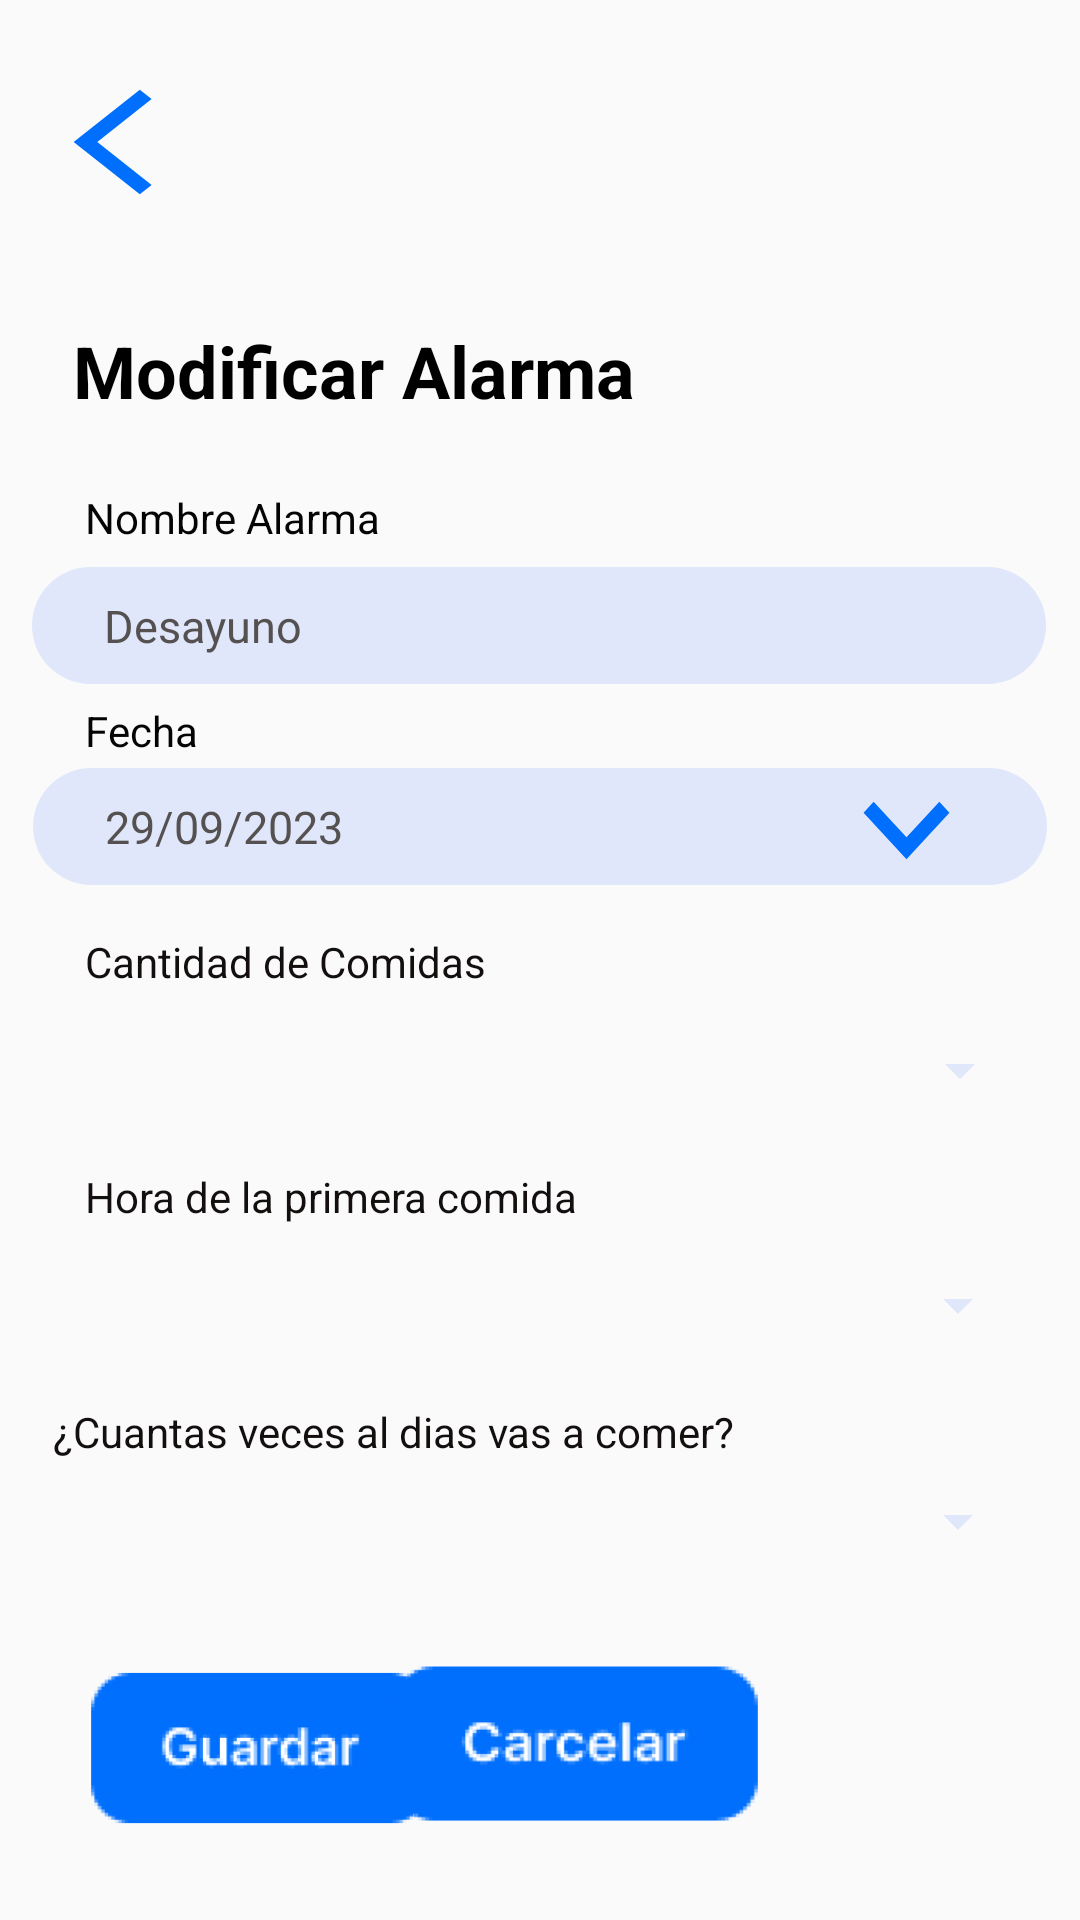

Icon bounding boxes for this 1080 × 1920 phone screenshot, format region(x1, y1, x2, y2):
back: region(74, 90, 152, 194)
deplegar: region(863, 802, 950, 859)
